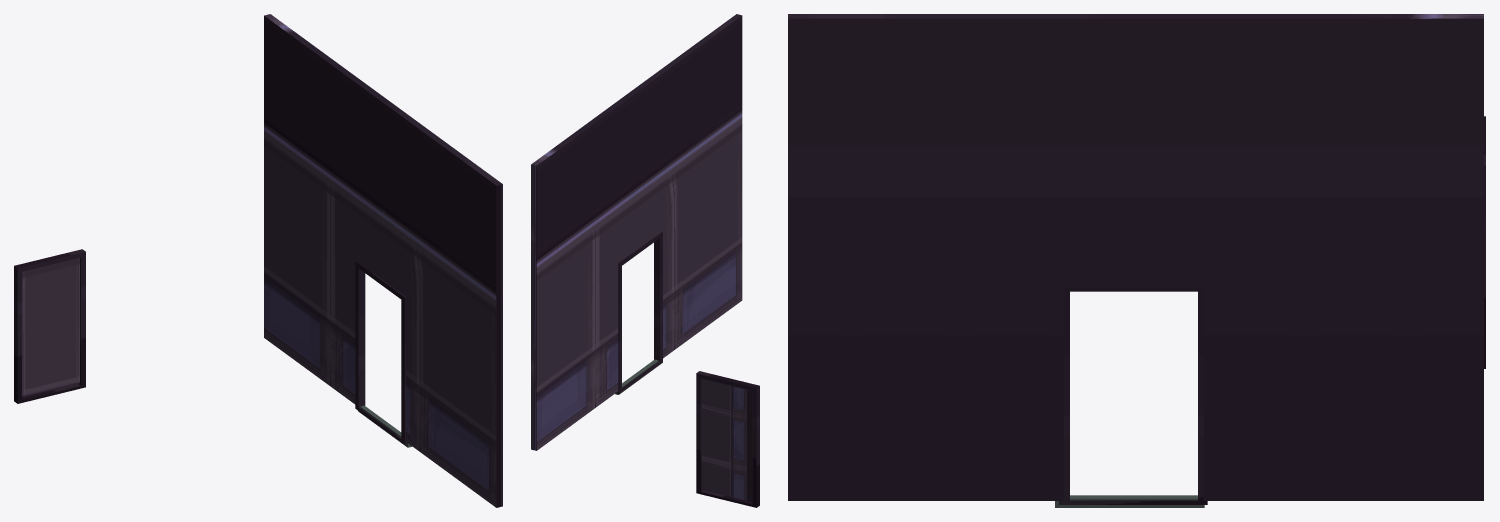
The model's file is reswalls2.fbx.
The picture shows the model from 3 angles, left to right: view 1: azimuth 30°, elevation 25°; view 2: azimuth 150°, elevation 25°; view 3: azimuth 270°, elevation 25°; orthographic projection. The views are drawn at different scales.
Parts seen in each view (by area): view 1: Cube.026, Cube.037, DoorFrame.002, DoorFrame.001; view 2: Cube.026, Cube.037, DoorFrame.002, DoorFrame.001; view 3: Cube.026, DoorFrame.001, Cube.044.
Part boxes in pixels (x1=…): Cube.026: x1=264, y1=14, x2=502, y2=507; Cube.037: x1=22, y1=258, x2=79, y2=397; DoorFrame.002: x1=14, y1=249, x2=85, y2=403; DoorFrame.001: x1=355, y1=261, x2=406, y2=444; Cube.026: x1=531, y1=14, x2=742, y2=450; Cube.037: x1=701, y1=379, x2=752, y2=501; DoorFrame.002: x1=696, y1=371, x2=759, y2=507; DoorFrame.001: x1=616, y1=231, x2=662, y2=393; Cube.026: x1=788, y1=14, x2=1483, y2=500; DoorFrame.001: x1=1059, y1=288, x2=1207, y2=504; Cube.044: x1=1055, y1=495, x2=1204, y2=507.
Bounding box in the file's own units: 363 × 444 × 572.
